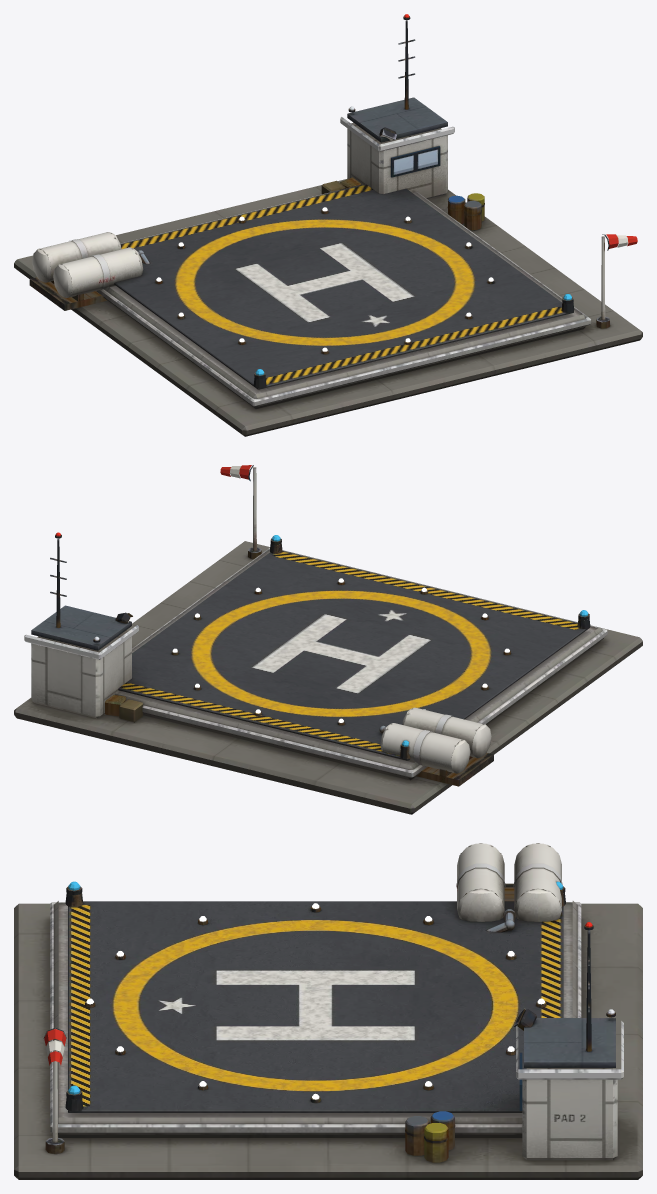
Rendered from hpad.allies.glb.
The picture shows the model from 3 angles, top to bottom: view 1: azimuth 30°, elevation 25°; view 2: azimuth 150°, elevation 25°; view 3: azimuth 270°, elevation 25°; orthographic projection. The views are drawn at different scales.
Visible parts, largest first — view 1: root_mesh; view 2: root_mesh; view 3: root_mesh, sock_mesh.
Boxes of the visible parts, x1,y1,x2,y2 form: root_mesh: (14, 14, 642, 436); root_mesh: (14, 467, 642, 814); root_mesh: (14, 843, 642, 1179); sock_mesh: (43, 1028, 66, 1065).
Size of the model in its own units: 2.08 by 0.841 by 1.98.
2 materials, 1 textured.
